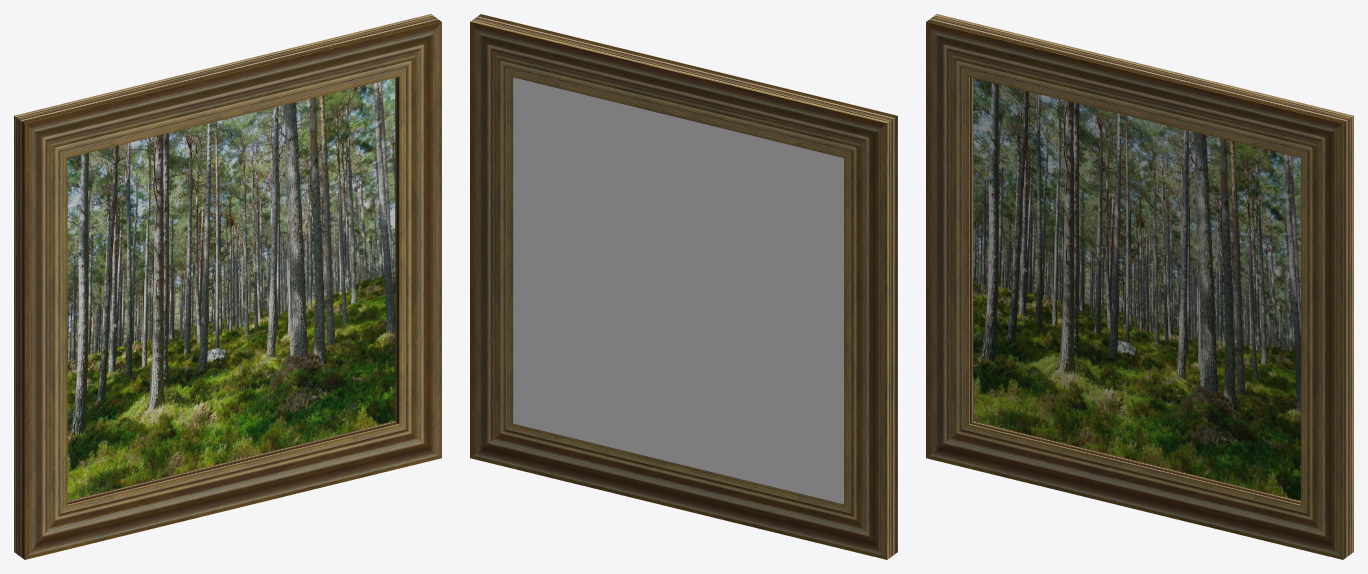
The model's file is Frame_014.FBX.
The picture shows the model from 3 angles, left to right: view 1: azimuth 30°, elevation 25°; view 2: azimuth 150°, elevation 25°; view 3: azimuth 330°, elevation 25°; orthographic projection.
Parts seen in each view (by area): view 1: Frame_014; view 2: Frame_014; view 3: Frame_014.
Part boxes in pixels (x1,y1,x2,y2): Frame_014: (14, 14, 441, 559); Frame_014: (470, 14, 897, 559); Frame_014: (926, 14, 1353, 559).
Bounding box in the file's own units: 810 × 36 × 810.
